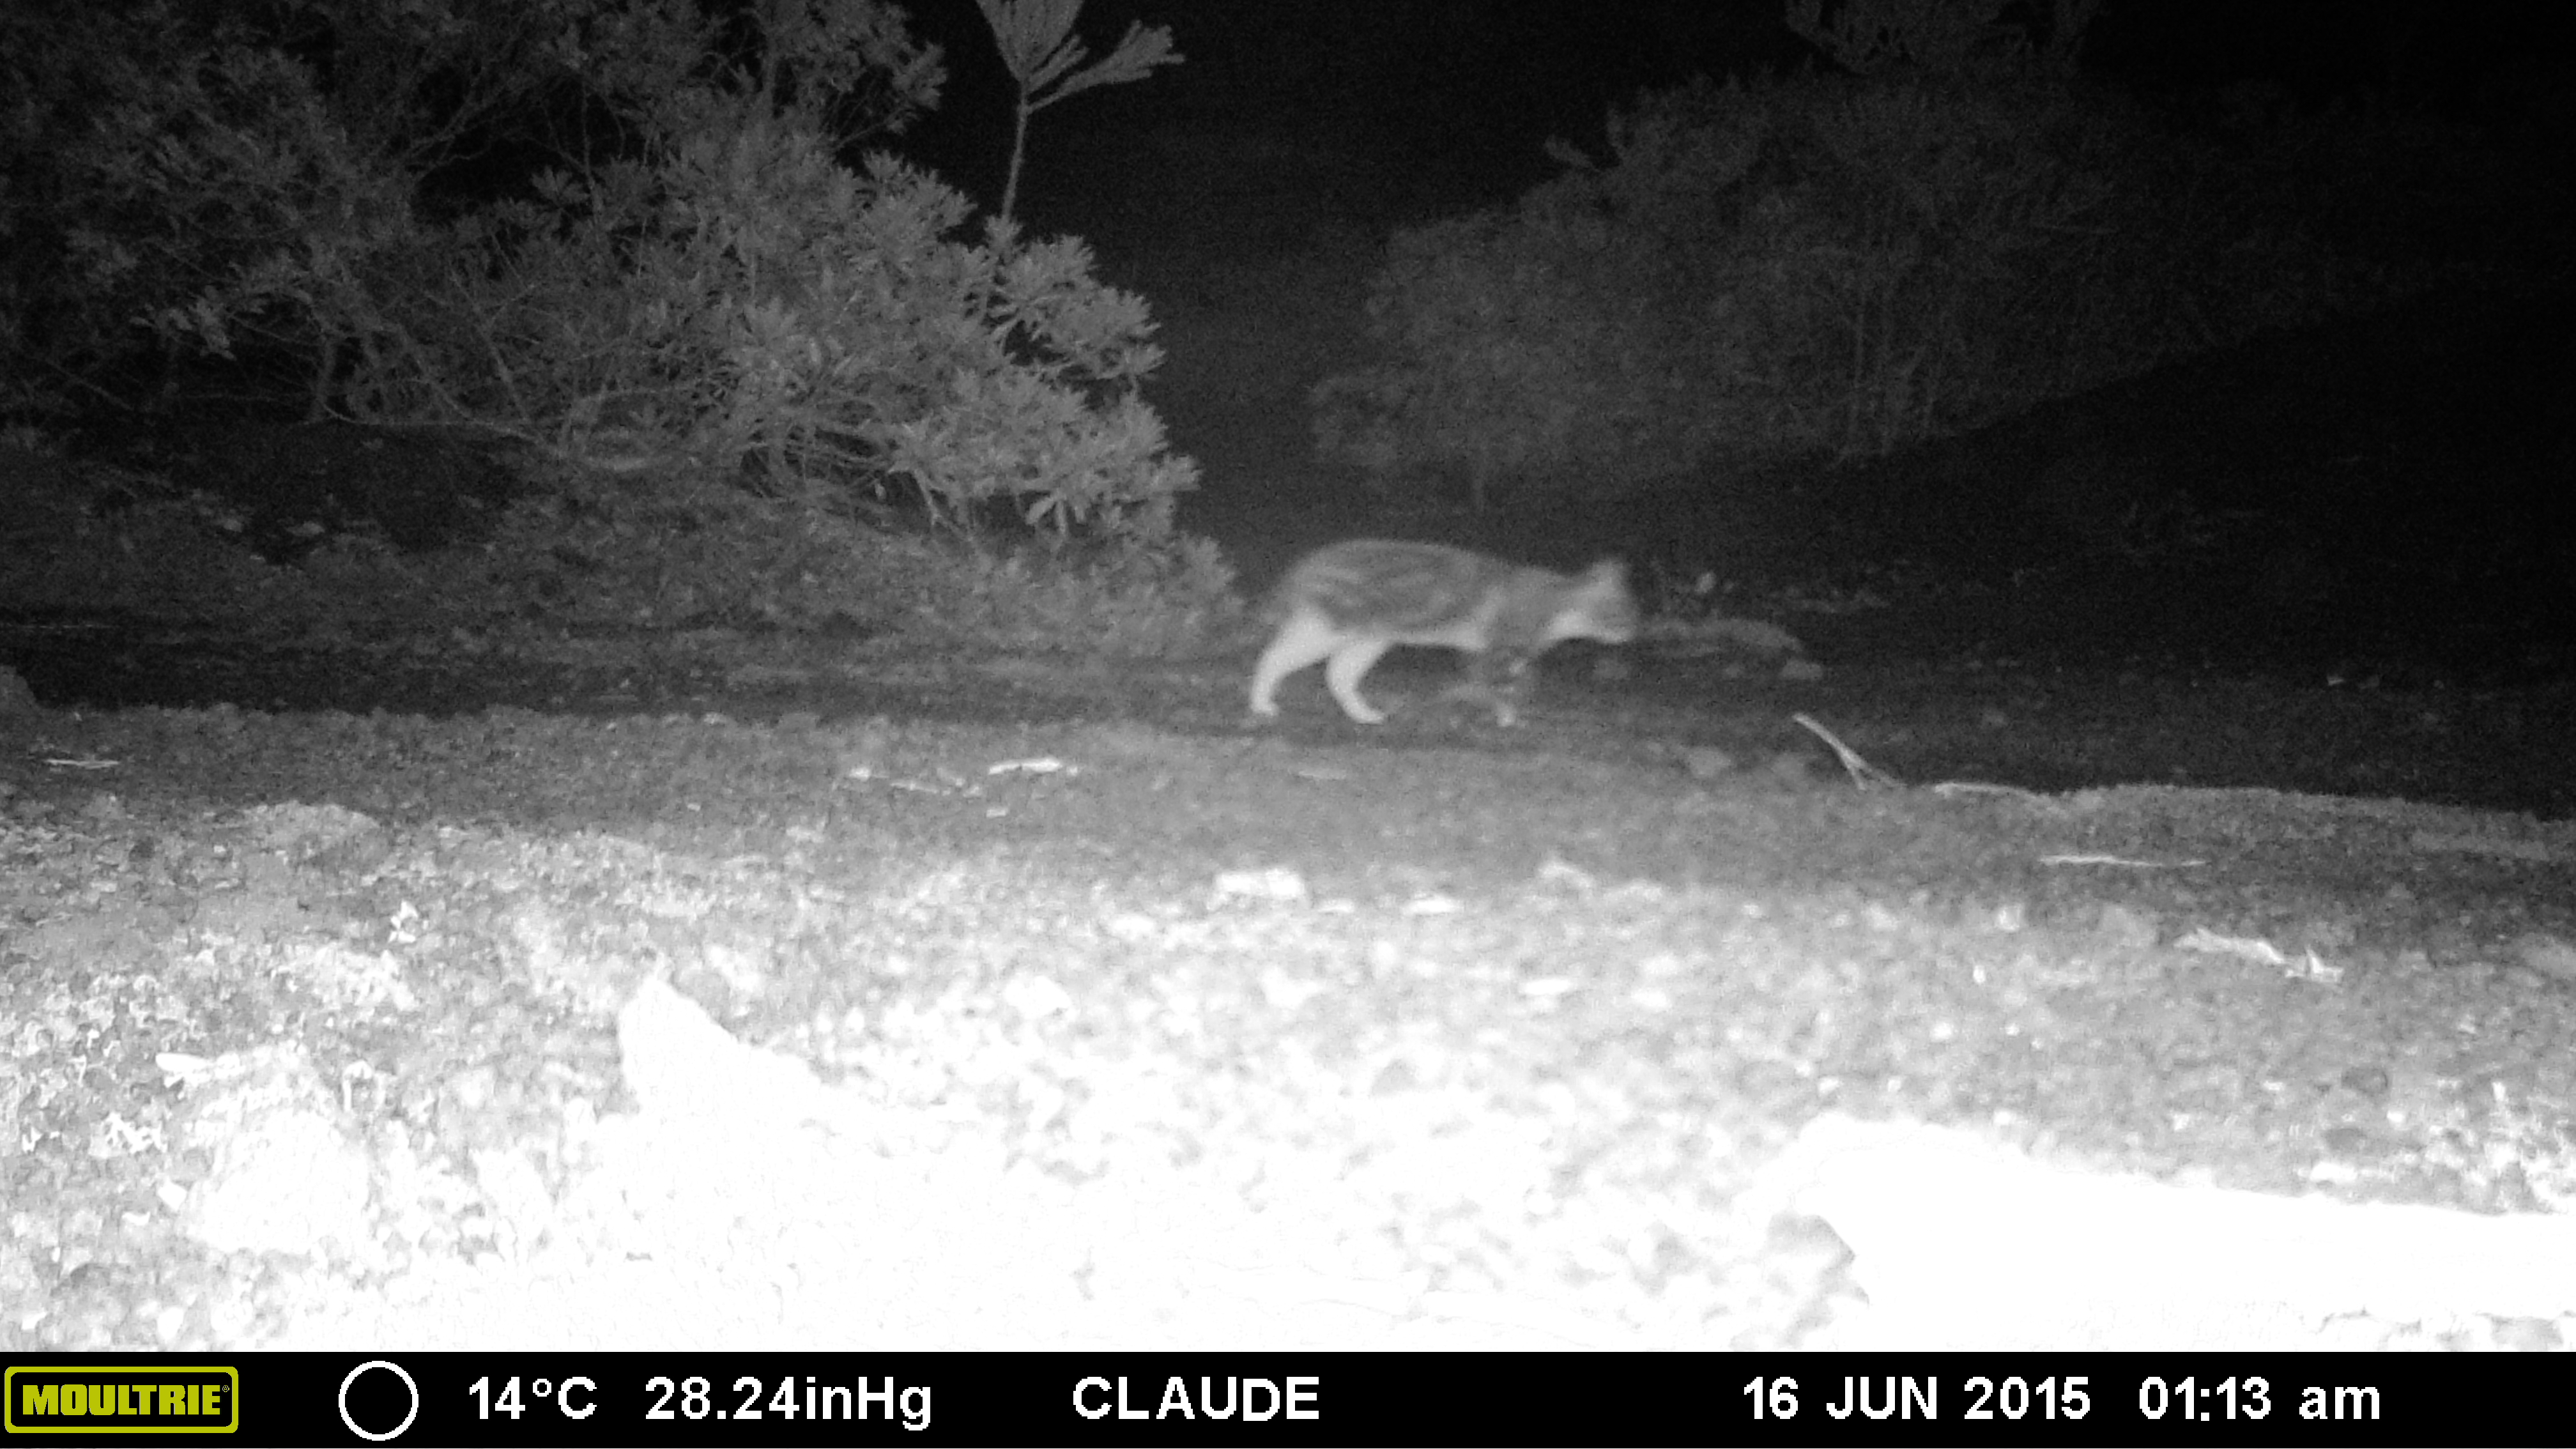cat: (1242, 504, 1658, 757)
